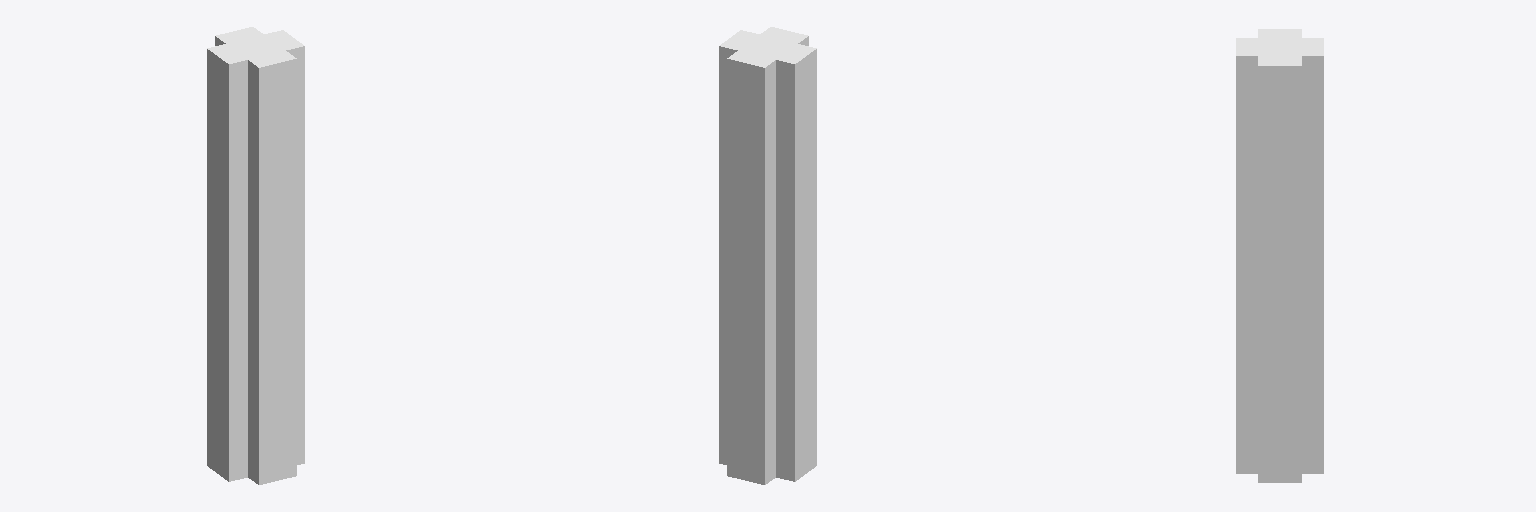
File: red_pipe_simple_20.obj
3 views of the same model, side by side, from view 1: azimuth 30°, elevation 25°; view 2: azimuth 150°, elevation 25°; view 3: azimuth 270°, elevation 25° (orthographic).
Parts seen in each view (by area): view 1: object 1; view 2: object 1; view 3: object 1.
Boxes of the visible parts, x1,y1,x2,y2 form: object 1: [207, 27, 304, 484]; object 1: [719, 27, 816, 484]; object 1: [1236, 29, 1323, 482].
Size of the model in its own units: 0.4 by 2.1 by 0.4.